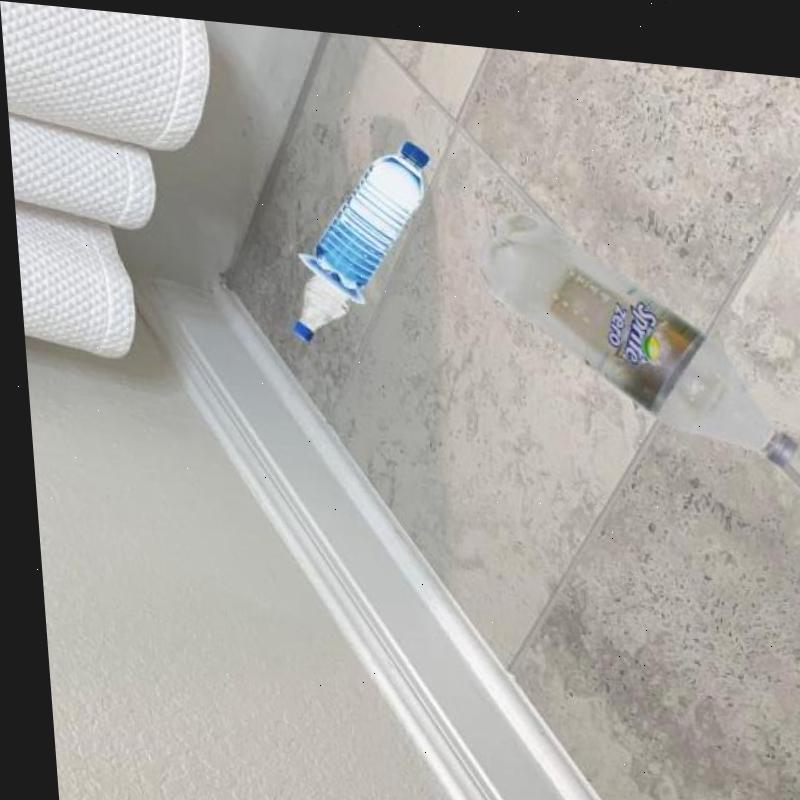botella: (471, 198, 793, 451), (302, 125, 434, 291), (283, 265, 351, 338)
